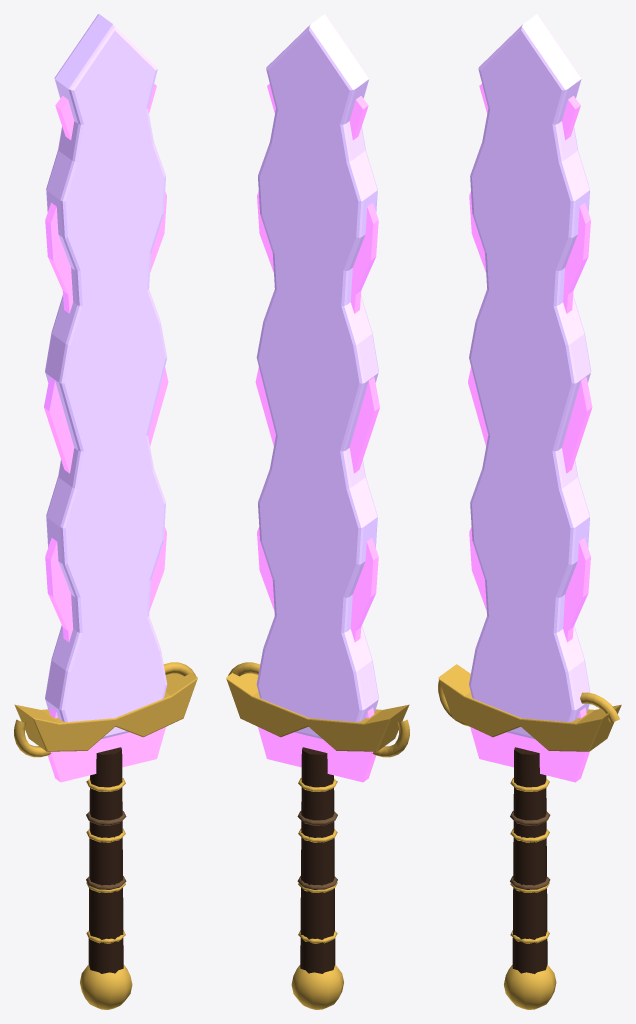
The model's file is greatsword_f3_729d7771.glb.
The picture shows the model from 3 angles, left to right: view 1: azimuth 30°, elevation 25°; view 2: azimuth 150°, elevation 25°; view 3: azimuth 330°, elevation 25°; orthographic projection.
Parts seen in each view (by area): view 1: m1_ow80_, m0_, m20_ow80_, m18_ow80_, m21_ow80_; view 2: m1_ow80_, m0_, m20_ow80_, m18_ow80_, m21_ow80_; view 3: m1_ow80_, m0_, m20_ow80_, m18_ow80_, m21_ow80_.
Boxes of the visible parts, left/top/right/bottom form: m1_ow80_: left=45, top=14, right=167, bottom=739; m0_: left=44, top=84, right=168, bottom=782; m20_ow80_: left=14, top=662, right=197, bottom=1009; m18_ow80_: left=88, top=747, right=123, bottom=973; m21_ow80_: left=86, top=811, right=126, bottom=889; m1_ow80_: left=256, top=14, right=378, bottom=739; m0_: left=255, top=84, right=379, bottom=782; m20_ow80_: left=226, top=662, right=409, bottom=1009; m18_ow80_: left=300, top=747, right=335, bottom=973; m21_ow80_: left=297, top=811, right=337, bottom=889; m1_ow80_: left=469, top=14, right=591, bottom=739; m0_: left=468, top=84, right=592, bottom=782; m20_ow80_: left=438, top=664, right=621, bottom=1009; m18_ow80_: left=512, top=747, right=547, bottom=973; m21_ow80_: left=510, top=811, right=550, bottom=889.
Bounding box in the file's own units: 0.6467 × 3.36 × 0.1552.
